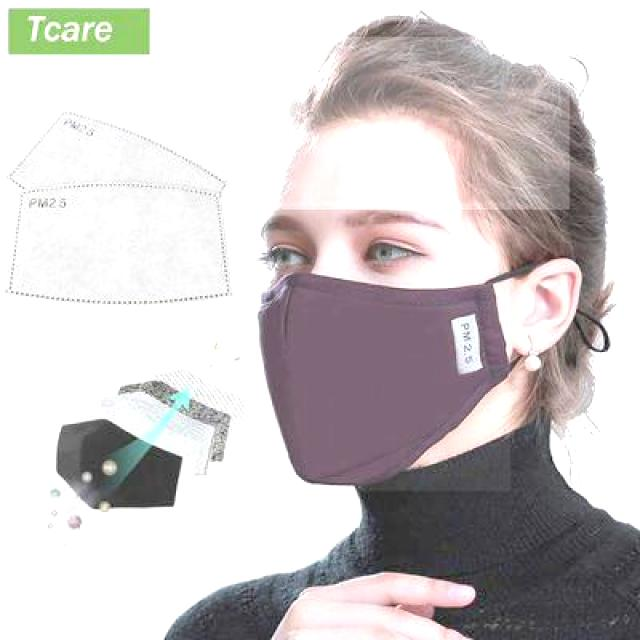face_mask: (254, 202, 512, 492)
head_nohelmet: (253, 4, 571, 178)
